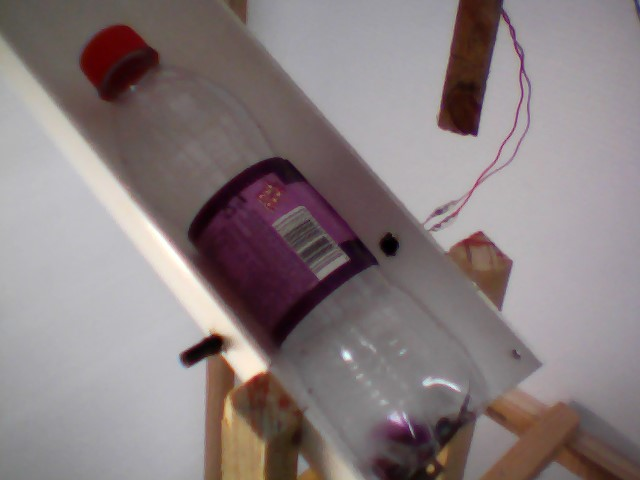plastico: (75, 19, 496, 480)
